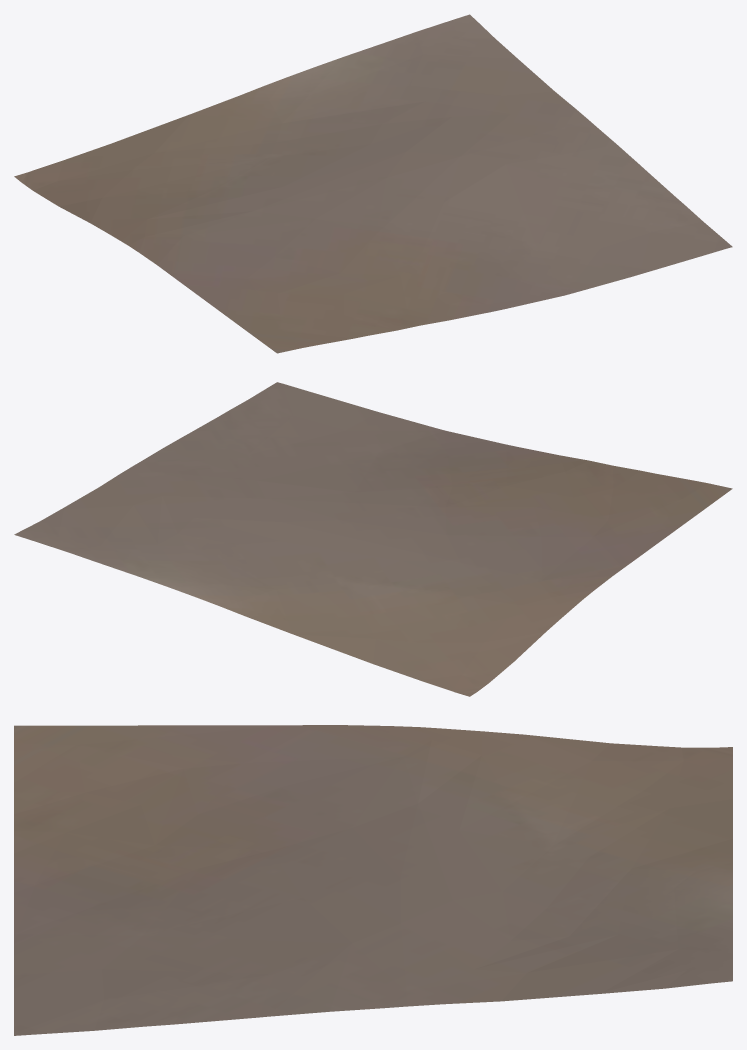
3 views of the same model, one above another, from view 1: azimuth 30°, elevation 25°; view 2: azimuth 150°, elevation 25°; view 3: azimuth 270°, elevation 25° (orthographic). The views are drawn at different scales.
Visible parts, largest first — view 1: 091_W_Aya_100K_01; view 2: 091_W_Aya_100K_01; view 3: 091_W_Aya_100K_01.
Boxes of the visible parts, x1,y1,x2,y2 form: 091_W_Aya_100K_01: (14, 14, 732, 353); 091_W_Aya_100K_01: (14, 382, 732, 696); 091_W_Aya_100K_01: (14, 725, 732, 1035).
Bounding box in the file's own units: 85.74 × 9.24 × 85.74.
Materials: 1 (1 with a texture image).
